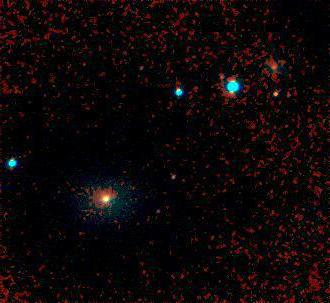star: (203, 62, 233, 92)
